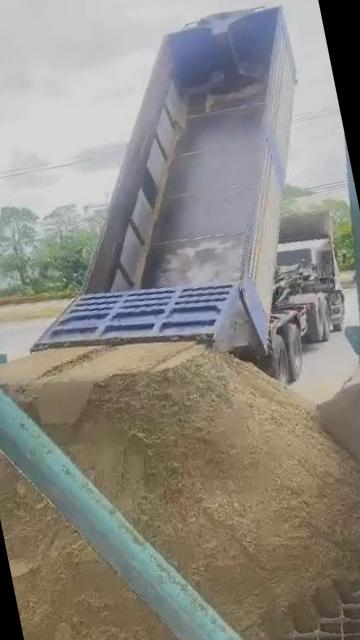sand: (0, 342, 360, 640), (0, 442, 189, 640), (316, 370, 360, 481)
